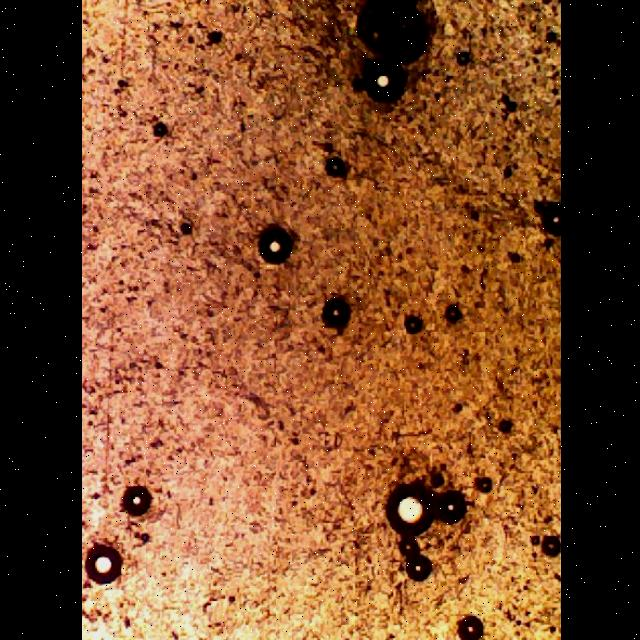Fragment: (347, 0, 442, 71)
microbeads: (250, 214, 302, 272), (386, 479, 434, 537), (316, 295, 352, 333)
